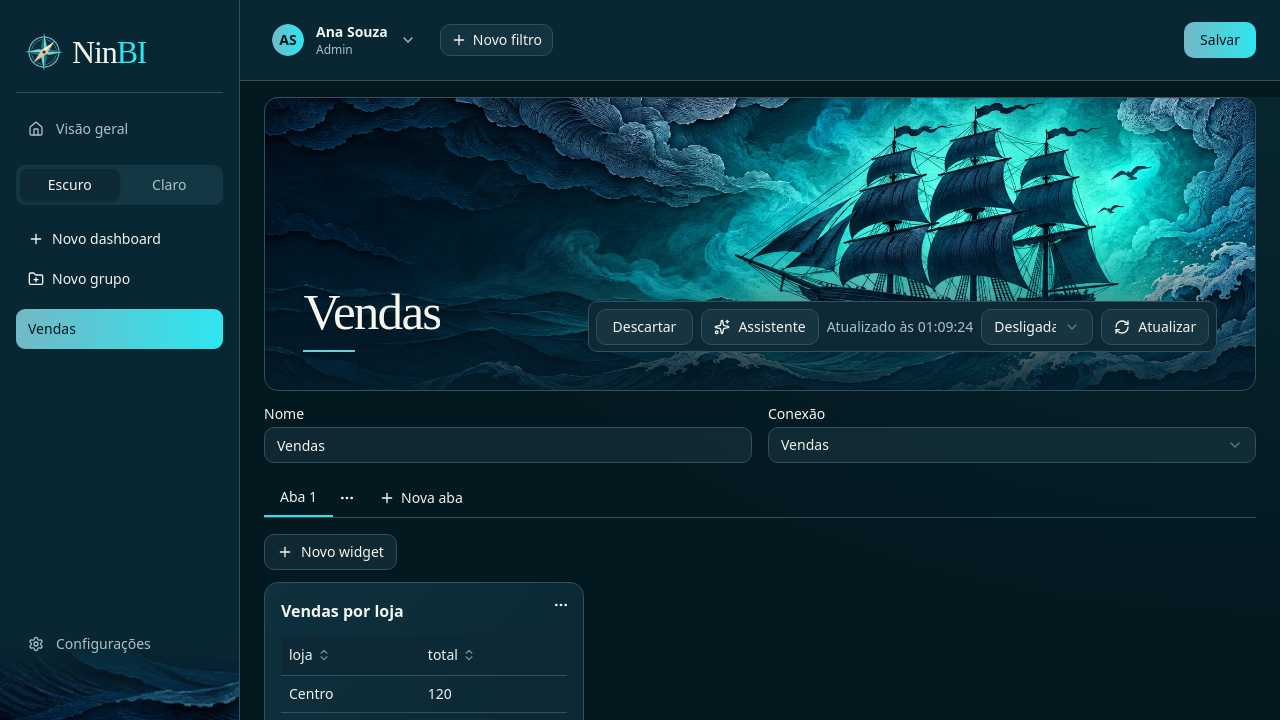
Test case: DashboardPage com compartilhamento › ACL-12 acesso removido mostra Dashboard não encontrado na próxima ação
Step 1. Click the button "Salvar" → click(1220, 40), box [1184, 22, 1256, 58]
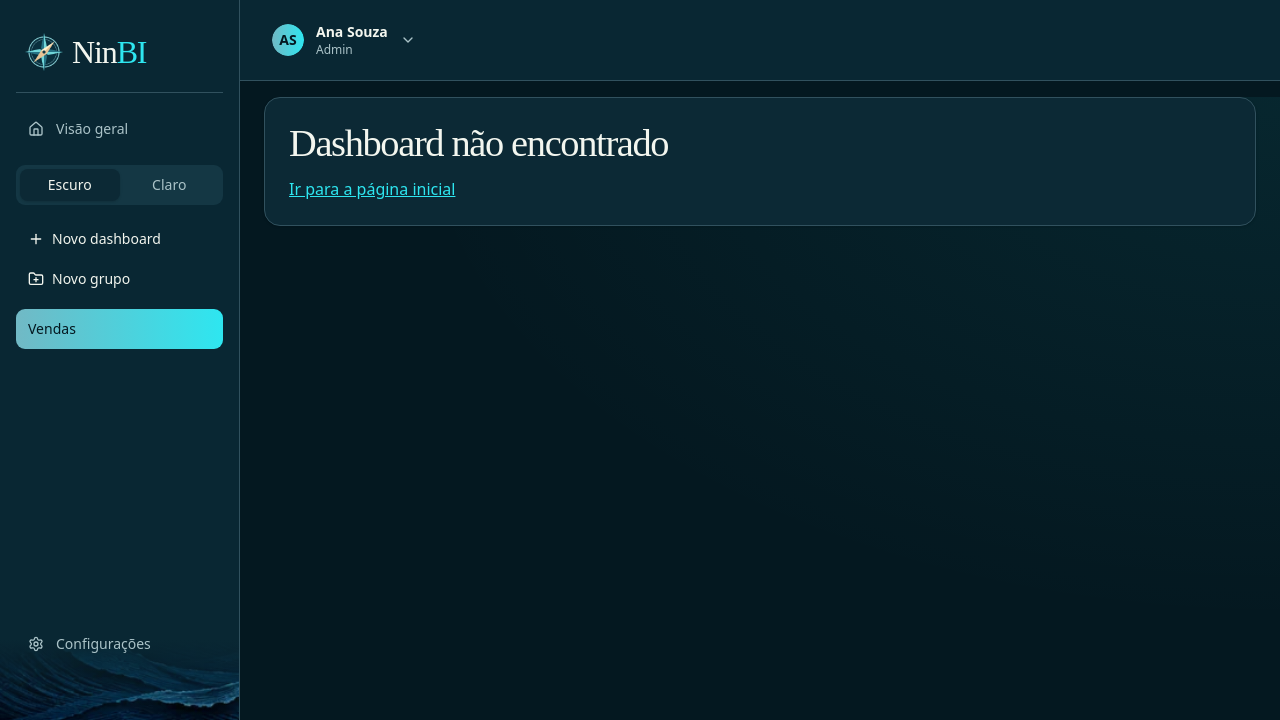
Expected: the heading "Dashboard não encontrado" is shown, [289, 122, 668, 165]
